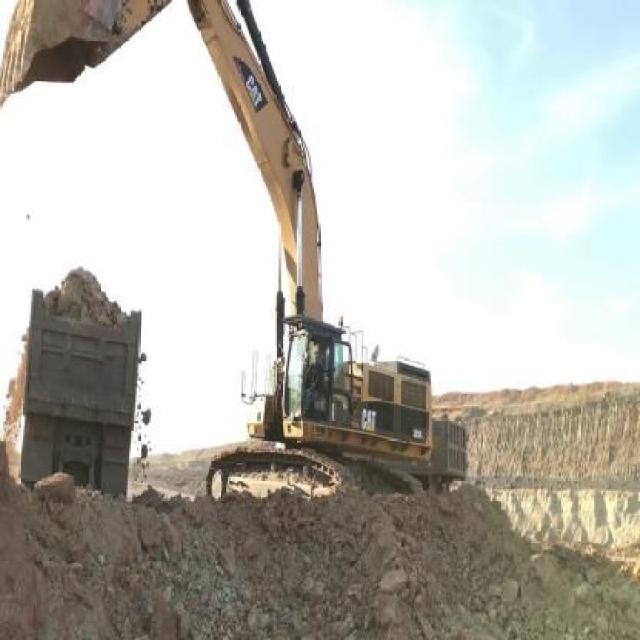dump_truck: (17, 284, 141, 498), (433, 408, 469, 498)
excavator: (0, 0, 433, 495)
